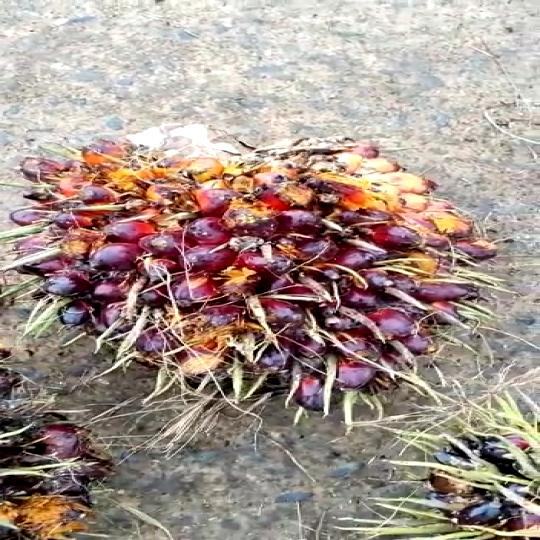masak: (1, 124, 540, 422)
